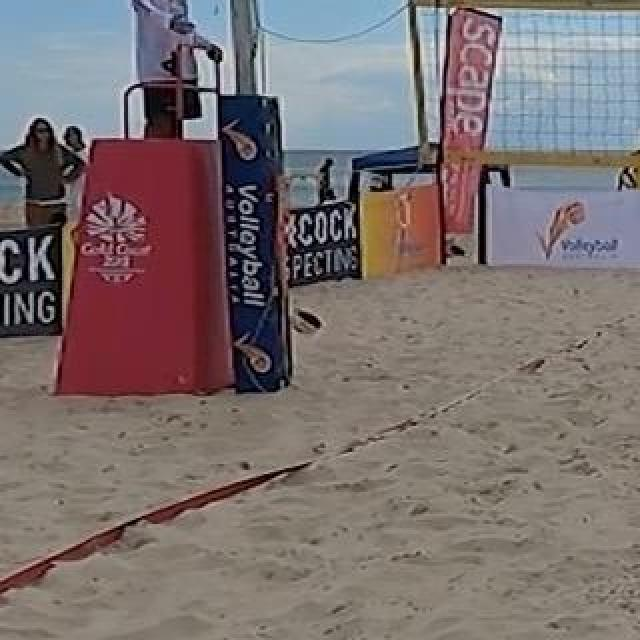volleyball: (288, 305, 322, 335)
